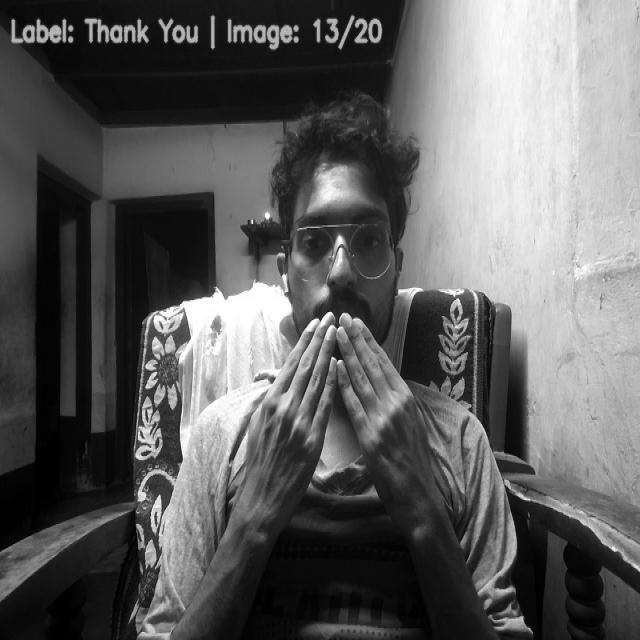Thank You: (243, 310, 436, 502)
